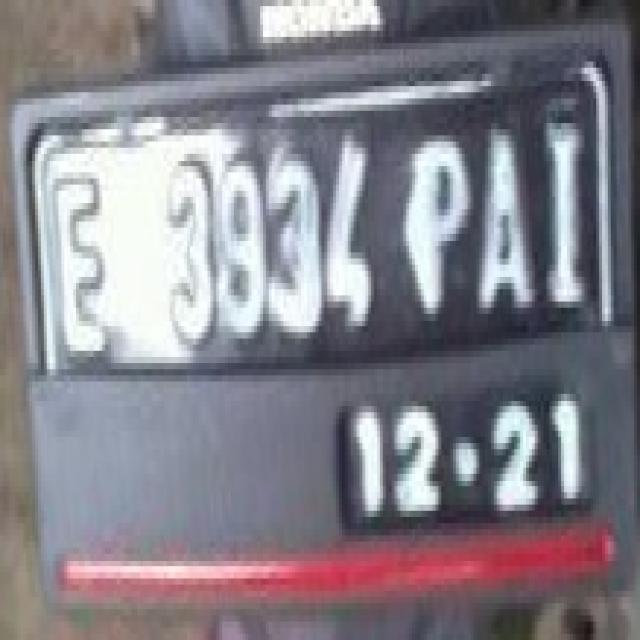plate: (18, 80, 616, 542)
